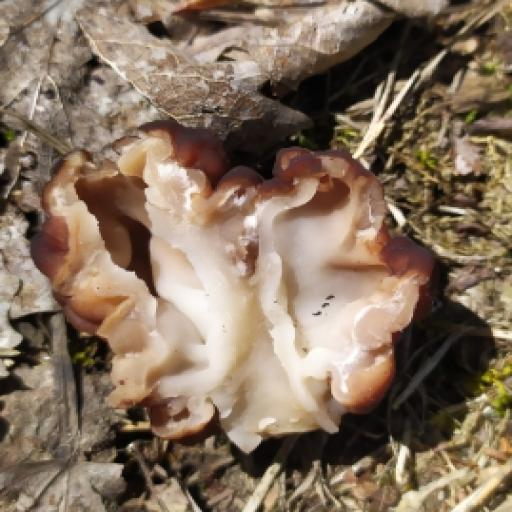mushroom: (15, 109, 435, 457)
